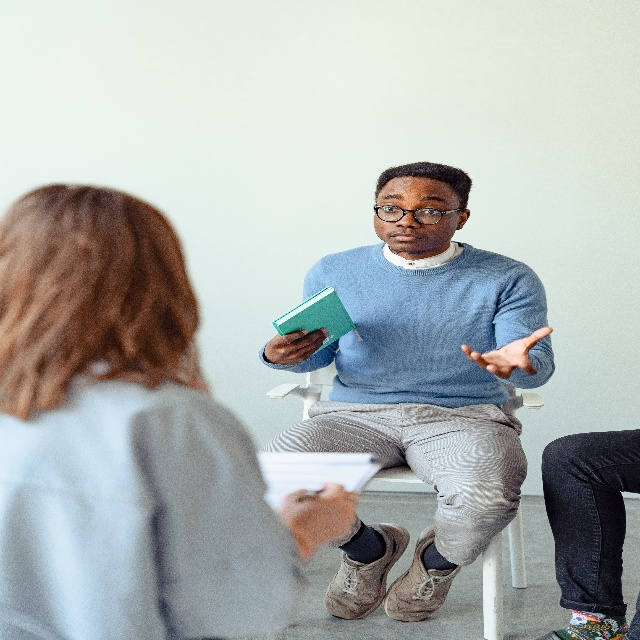Gafas: (373, 203, 460, 226)
Sin_guantes: (281, 482, 357, 548), (461, 326, 553, 380), (264, 327, 329, 366)
